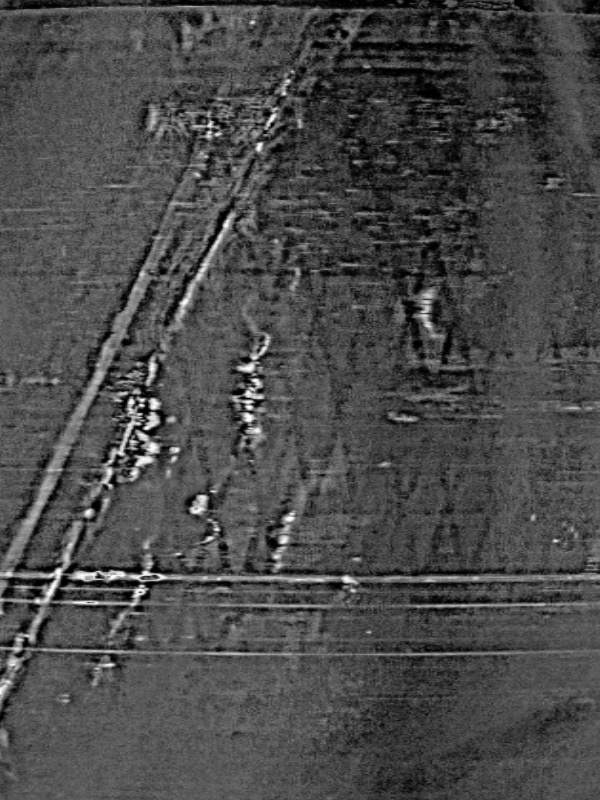splice_vulcanized: (1, 5, 363, 722)
